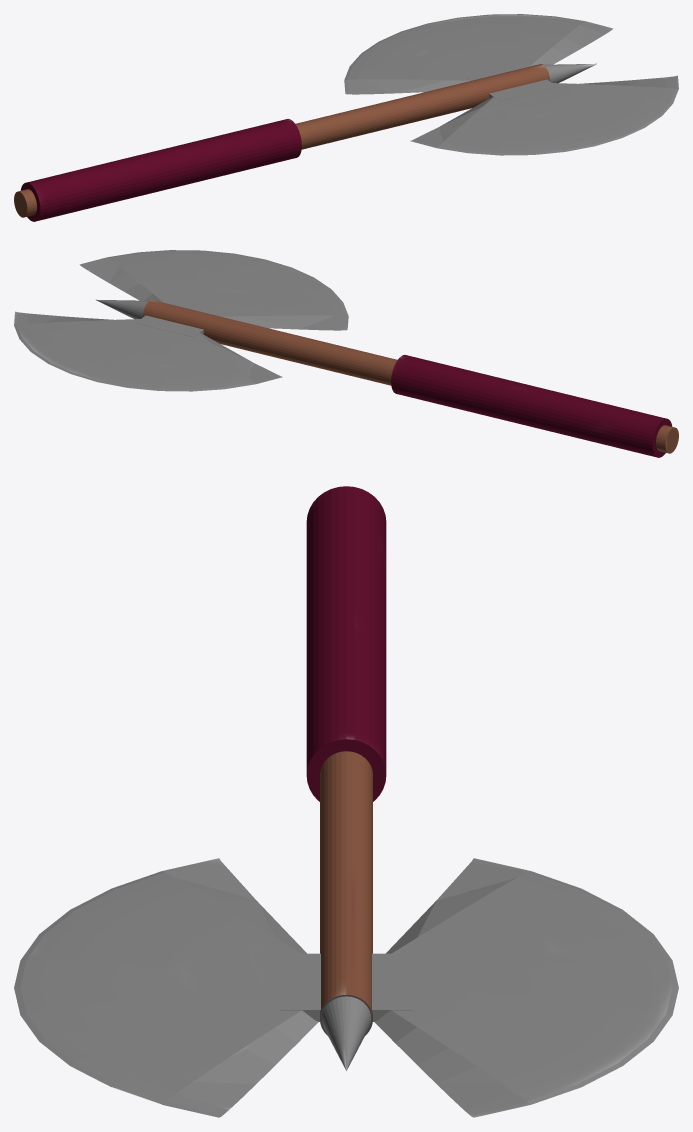
Rendered from Axe_Final.glb.
3 views of the same model, one above another, from view 1: azimuth 30°, elevation 25°; view 2: azimuth 150°, elevation 25°; view 3: azimuth 270°, elevation 25° (orthographic). The views are drawn at different scales.
Parts seen in each view (by area): view 1: Cube.002; view 2: Cube.002; view 3: Cube.002.
Boxes of the visible parts, <box> form: Cube.002: <box>14,14,678,221</box>; Cube.002: <box>14,250,678,457</box>; Cube.002: <box>14,486,678,1117</box>.
Size of the model in its own units: 21.52 by 1.2 by 10.
1 material, 1 textured.
